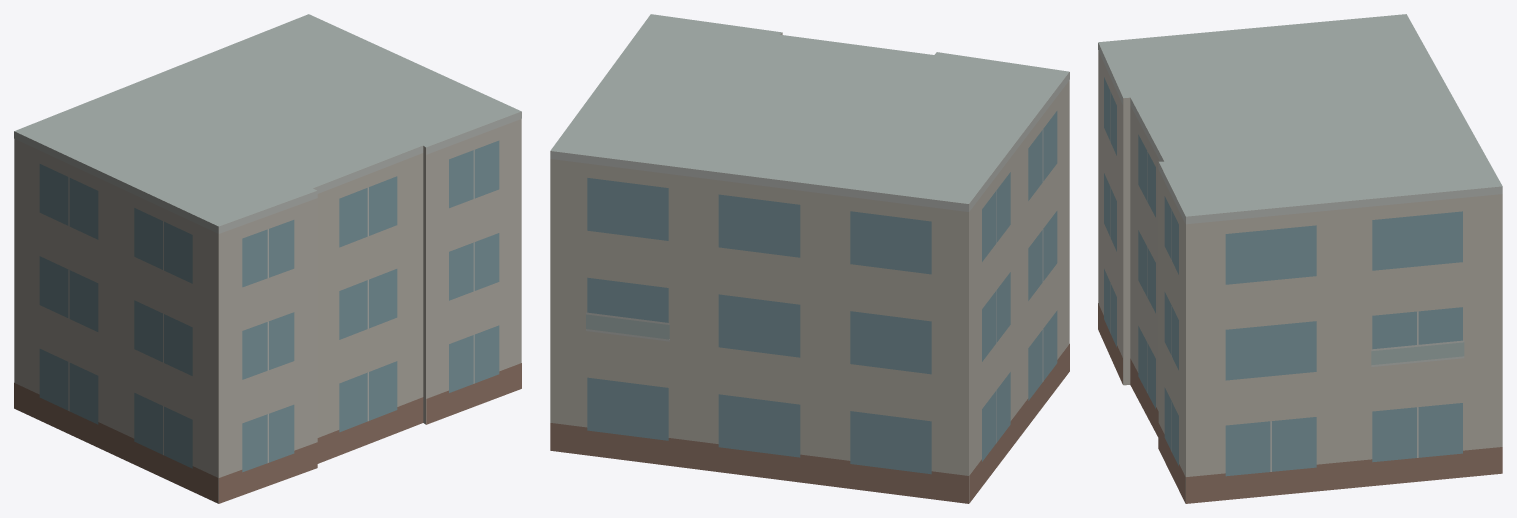
Rendered from survey-upis-32547580.glb.
3 views of the same model, side by side, from view 1: azimuth 30°, elevation 25°; view 2: azimuth 150°, elevation 25°; view 3: azimuth 270°, elevation 25° (orthographic). The views are drawn at different scales.
Visible parts, largest first — view 1: survey-upis-32547580.tmp; view 2: survey-upis-32547580.tmp; view 3: survey-upis-32547580.tmp.
Part boxes in pixels (x1=…): survey-upis-32547580.tmp: x1=14, y1=14, x2=521, y2=503; survey-upis-32547580.tmp: x1=550, y1=14, x2=1069, y2=503; survey-upis-32547580.tmp: x1=1098, y1=14, x2=1502, y2=503.
Size of the model in its own units: 13.86 by 9.15 by 11.69.
